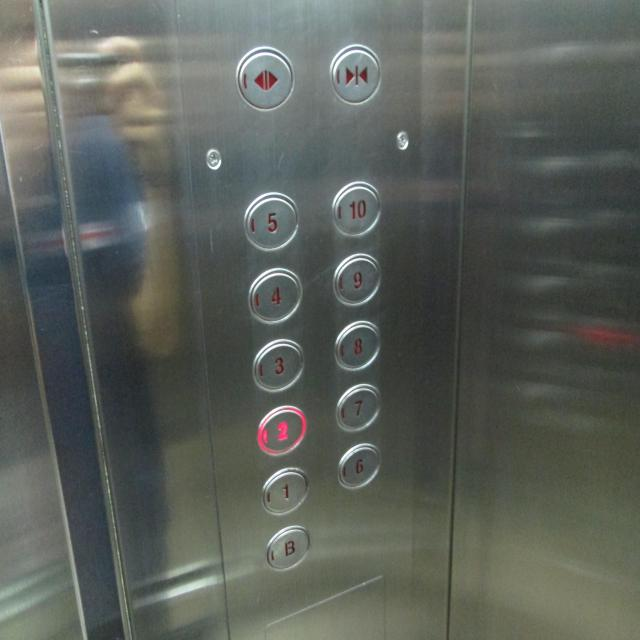1: (260, 465, 310, 520)
10: (330, 178, 384, 240)
2: (255, 403, 308, 460)
3: (250, 335, 306, 397)
4: (246, 264, 304, 328)
5: (240, 190, 300, 253)
6: (334, 440, 383, 493)
7: (334, 380, 382, 438)
8: (332, 318, 382, 374)
9: (332, 250, 382, 309)
B: (263, 524, 313, 574)
close: (328, 42, 382, 109)
open: (235, 45, 295, 111)
